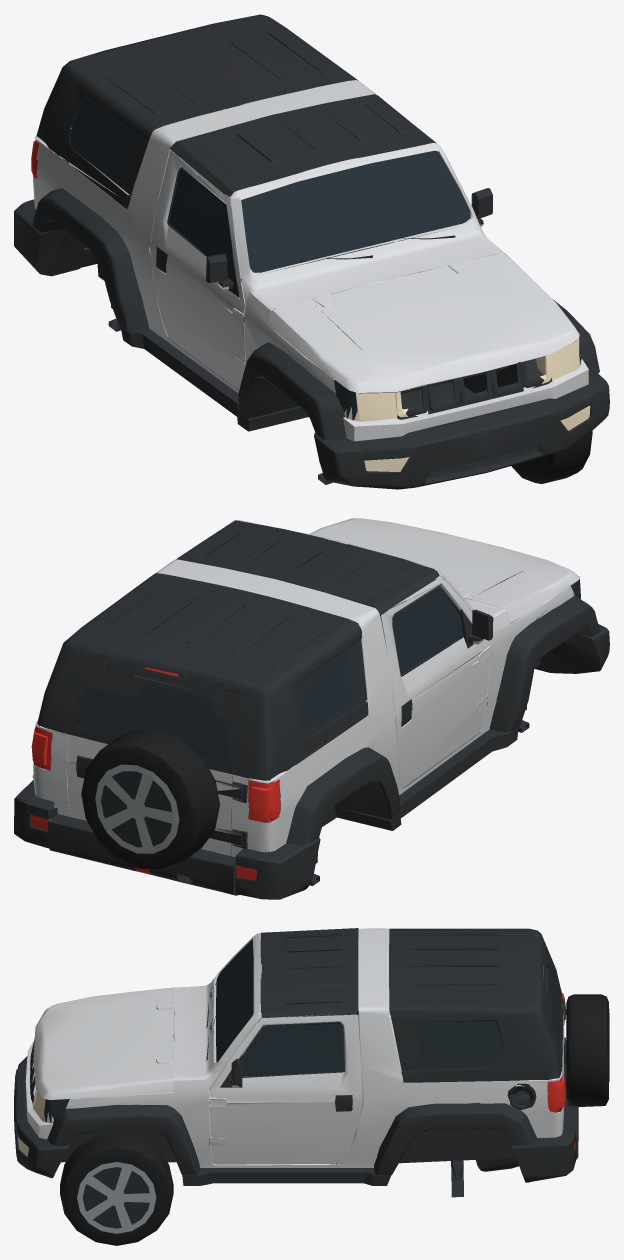
Rendered from jeep.glb.
3 views of the same model, one above another, from view 1: azimuth 30°, elevation 25°; view 2: azimuth 150°, elevation 25°; view 3: azimuth 270°, elevation 25° (orthographic). The views are drawn at different scales.
Visible parts, largest first — view 1: Car trim, Car body, Car glazing, Car headlamps, Wheel tyre; view 2: Car trim, Car body, Car glazing, Car tyres, Car wheel discs, Car tail lamps; view 3: Car trim, Car body, Car glazing, Wheel tyre, Car tyres, Wheel rim, Wheel well, Car tail lamps, Car headlamps.
Part boxes in pixels (x1,y1,x2,y2): Car trim: (14,14,609,489); Car body: (33,80,588,441); Car glazing: (71,98,580,420); Car headlamps: (218,224,590,471); Wheel tyre: (511,431,592,483); Car trim: (14,520,609,899); Car body: (33,518,579,857); Car glazing: (76,567,580,762); Car tyres: (81,729,219,869); Car wheel discs: (95,764,179,853); Car tail lamps: (31,667,280,880); Car trim: (14,928,609,1197); Car body: (25,928,564,1167); Car glazing: (44,939,560,1123); Wheel tyre: (60,1132,173,1245); Car tyres: (566,994,609,1106); Wheel rim: (77,1162,156,1233); Wheel well: (80,1161,149,1228); Car tail lamps: (543,965,575,1148); Car headlamps: (17,1038,238,1156).
Bounding box in the file's own units: 2.08 × 1.98 × 4.65.
